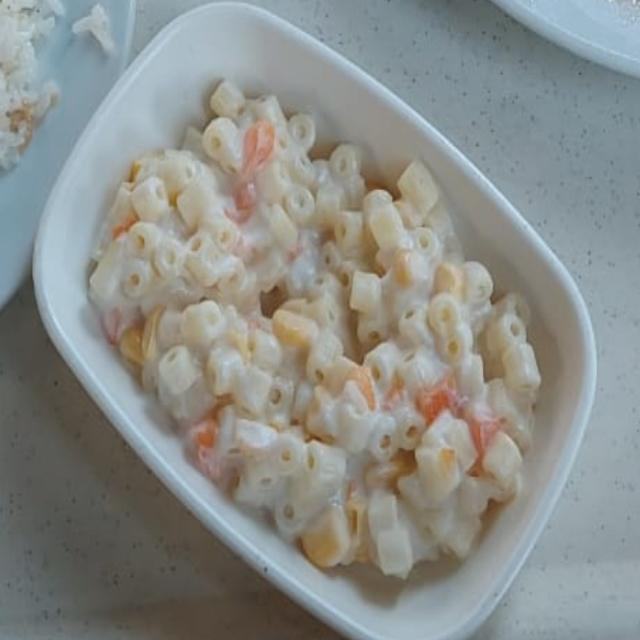yan_yemek: (86, 75, 543, 581)
